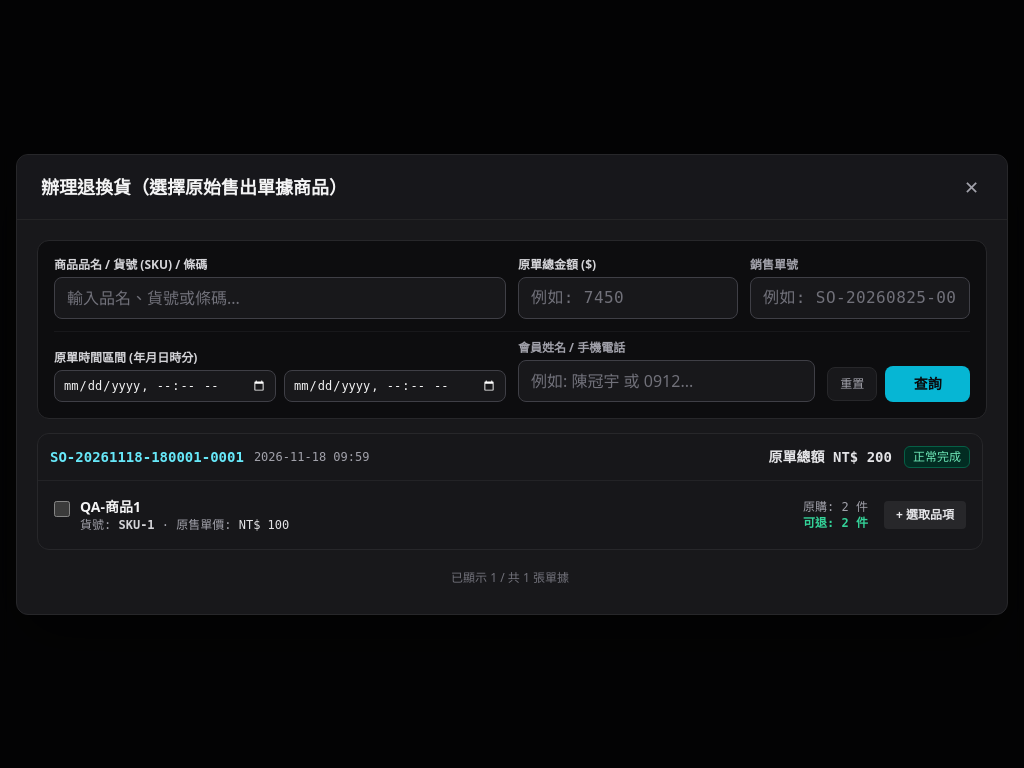
Test: ReturnOrderModal › sends the filters to the server and pages with 載入更多 using the same filters
The image size is (1024, 768).
Expected: the text "SO-20261118-180001-0001" is shown, 50,446 -> 244,466
In the field labelled "銷售單號": {"x": 860, "y": 298} 750,276 -> 970,318, type " 20261118-184741-0001 "
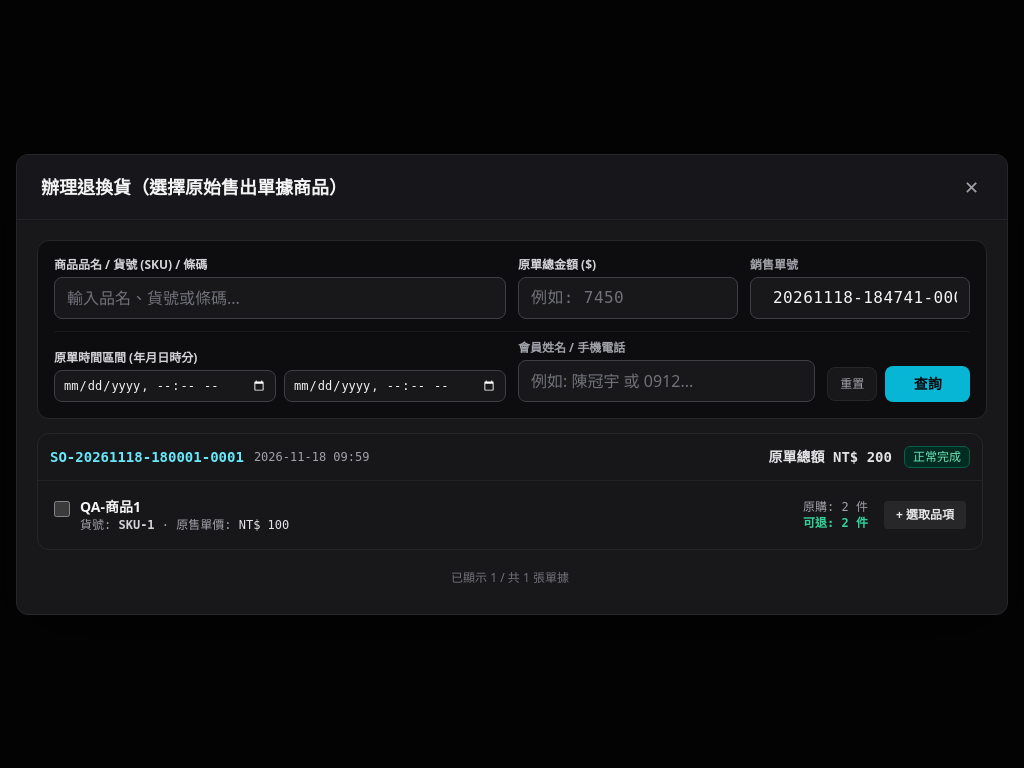
Click the button "查詢": {"x": 928, "y": 384} 885,366 -> 970,402
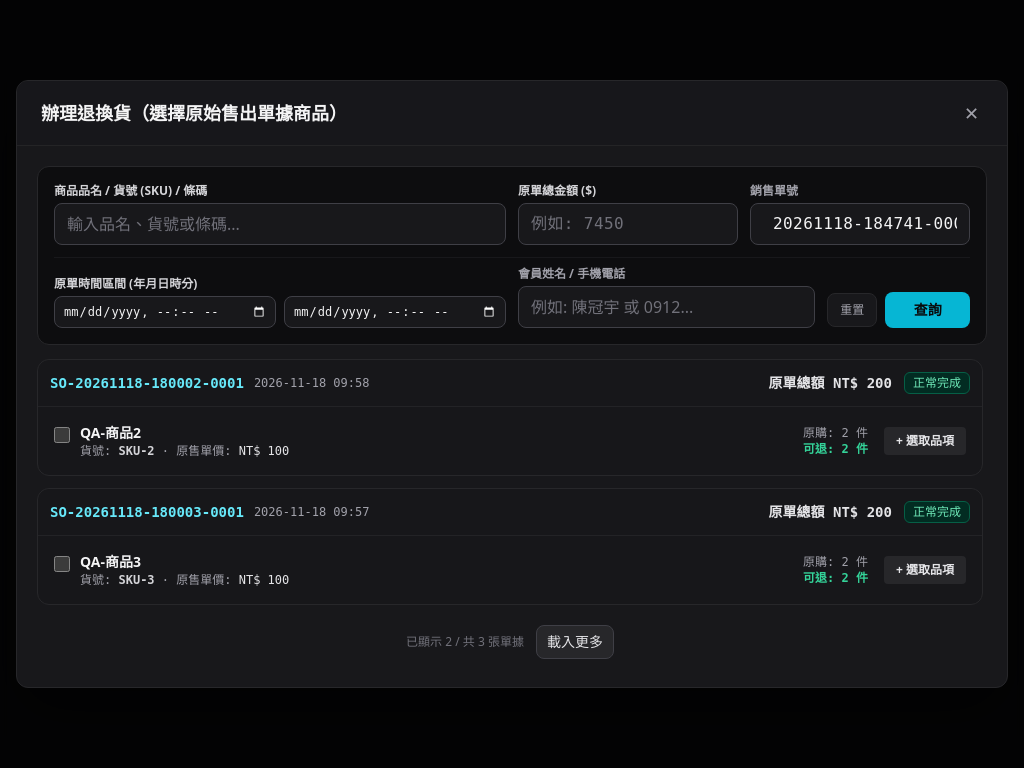
Result: the text "SO-20261118-180002-0001" is shown at 50,373 -> 244,393
改了欄位但沒按查詢，載入更多仍沿用上一次的條件。
Replace the text in the field labelled "銷售單號" with "other": {"x": 860, "y": 224} 750,203 -> 970,245
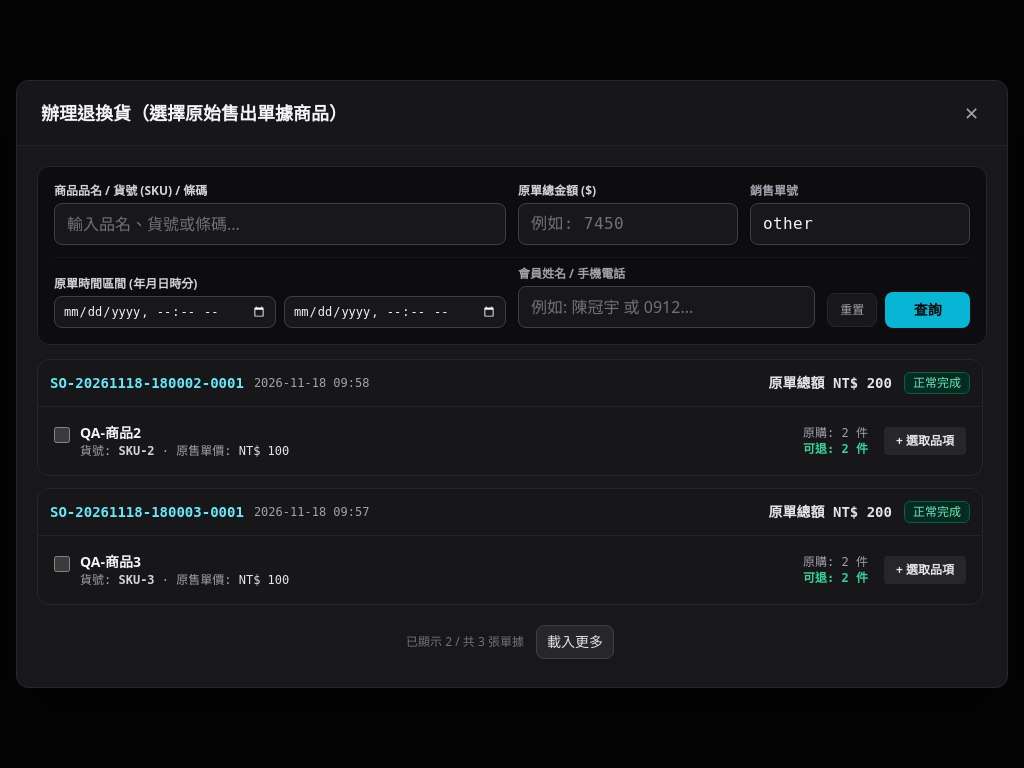
Click the button "載入更多": {"x": 575, "y": 642} 536,625 -> 614,659
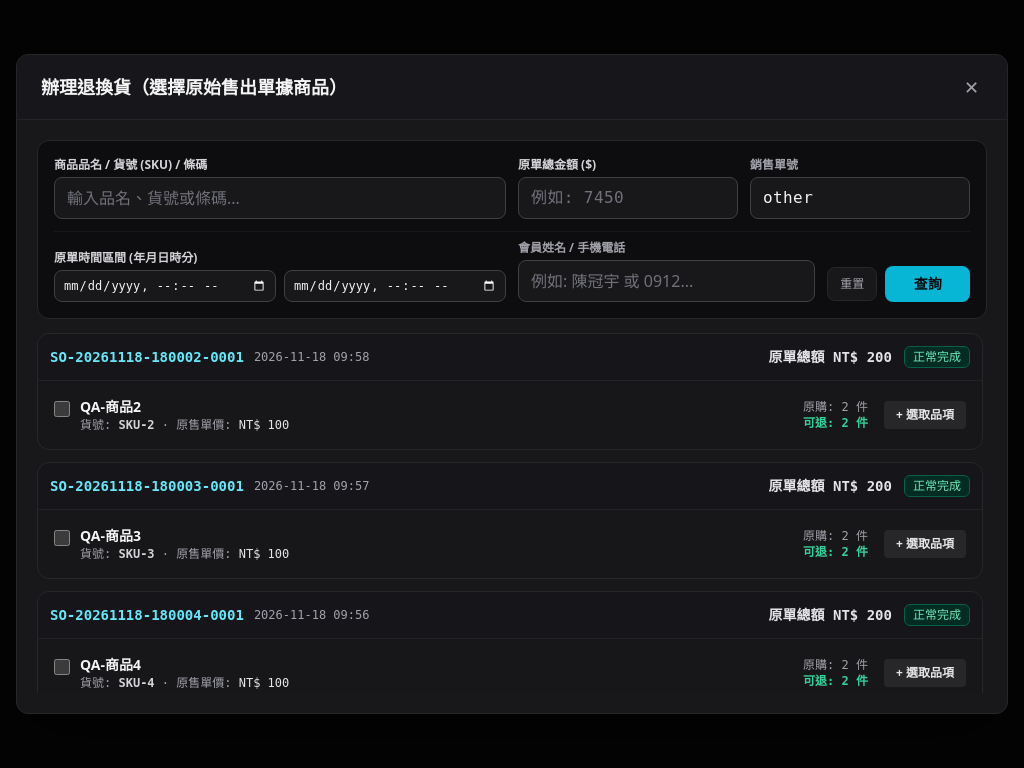
Result: the text "SO-20261118-180004-0001" is shown at 50,605 -> 244,625
Result: the text "SO-20261118-180003-0001" is shown once at 50,476 -> 244,496
Result: the button "載入更多" is gone
